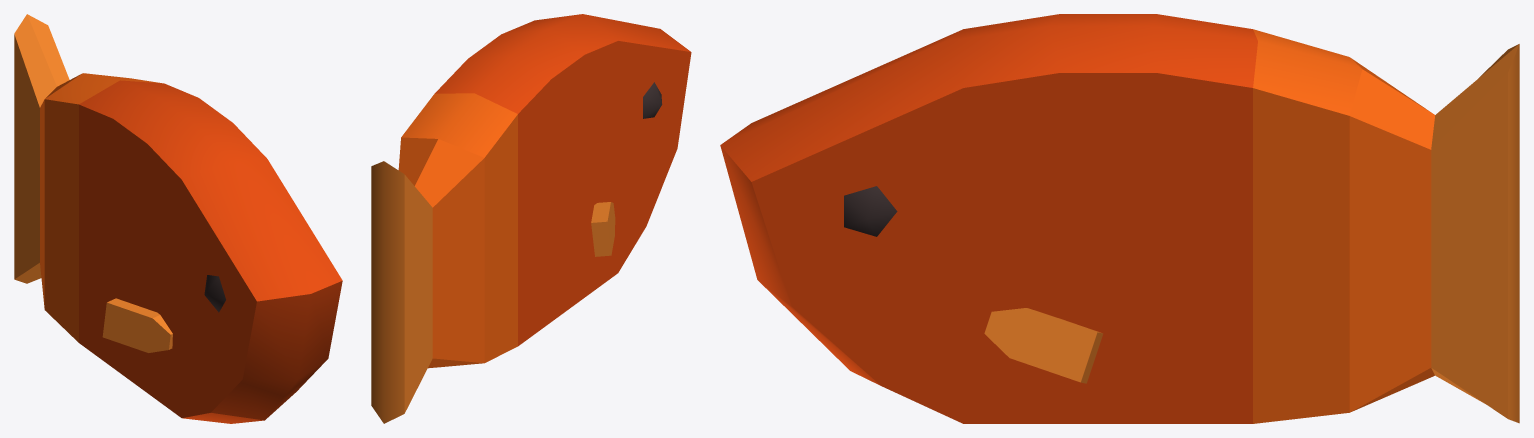
File: FishOrange.FBX
3 views of the same model, side by side, from view 1: azimuth 30°, elevation 25°; view 2: azimuth 150°, elevation 25°; view 3: azimuth 270°, elevation 25° (orthographic). The views are drawn at different scales.
Parts seen in each view (by area): view 1: FishOrange; view 2: FishOrange; view 3: FishOrange.
Part boxes in pixels (x1=…): FishOrange: x1=14, y1=14, x2=342, y2=423; FishOrange: x1=371, y1=14, x2=691, y2=423; FishOrange: x1=720, y1=14, x2=1519, y2=423.
Bounding box in the file's own units: 1.77 × 3.06 × 5.58.
